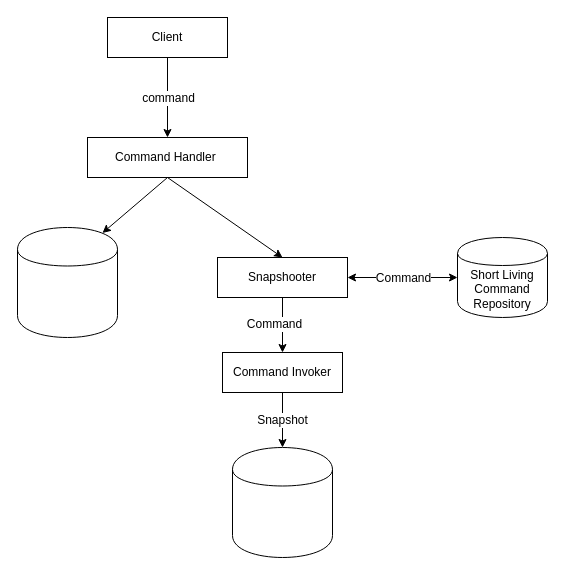
This 565x575 diagram has some shape labels left out. The box of each missing label's shape, as (x1, y1, x2, y2) in pixels:
Command Repository: (16, 226, 118, 338)
Snapshot Repository: (232, 446, 332, 558)
